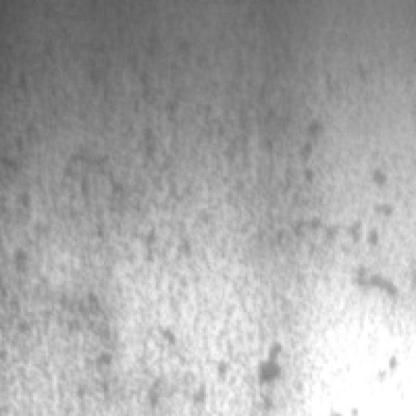pitted_surface: (106, 31, 395, 412), (4, 39, 131, 412)
